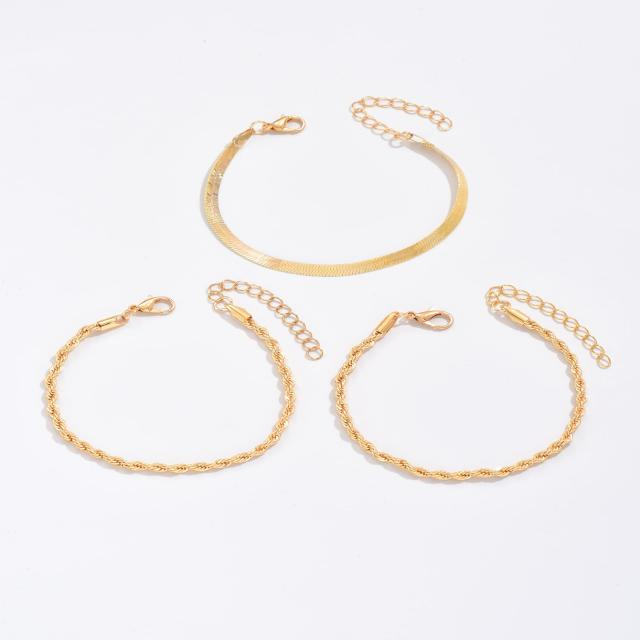bracelet: (99, 74, 546, 294), (318, 268, 640, 534), (7, 274, 317, 515)
